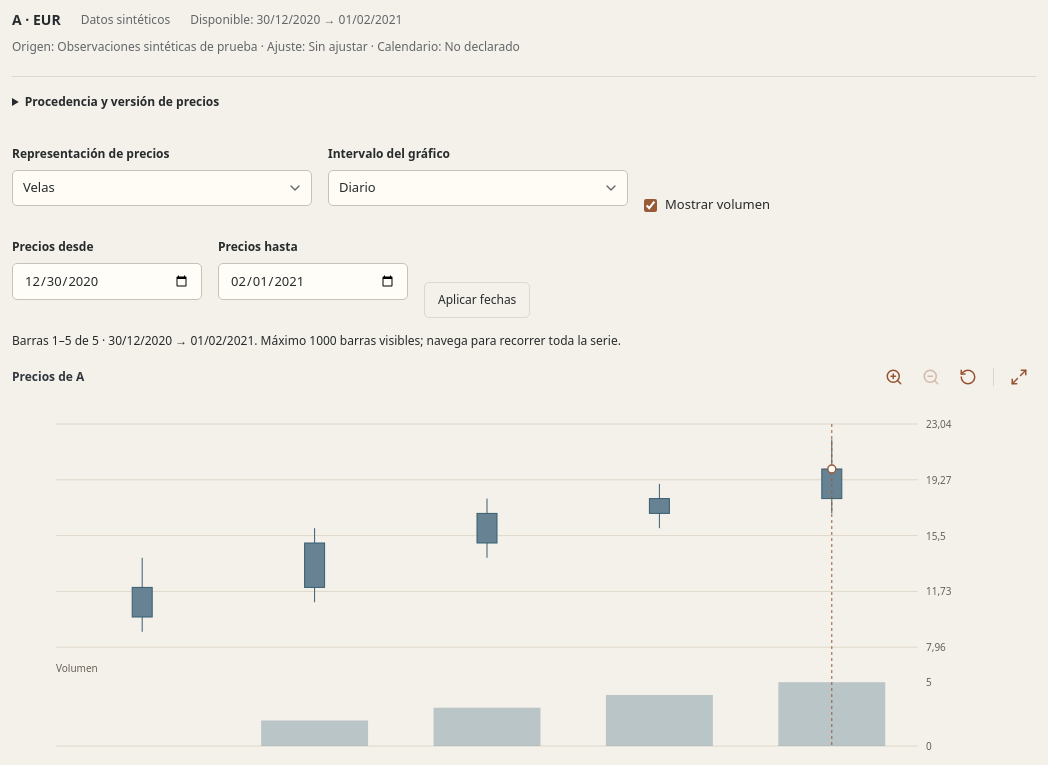
Scenario: Exploración fiel y accesible de OHLCV › filtra fechas sin rellenar huecos y usa el cierre previo al rango para el primer cambio
In the date field labelled "Precios desde": [107, 282] box 12,263 -> 202,300, type "2021-01-04"
In the date field labelled "Precios hasta": [313, 282] box 218,263 -> 408,300, type "2021-01-05"
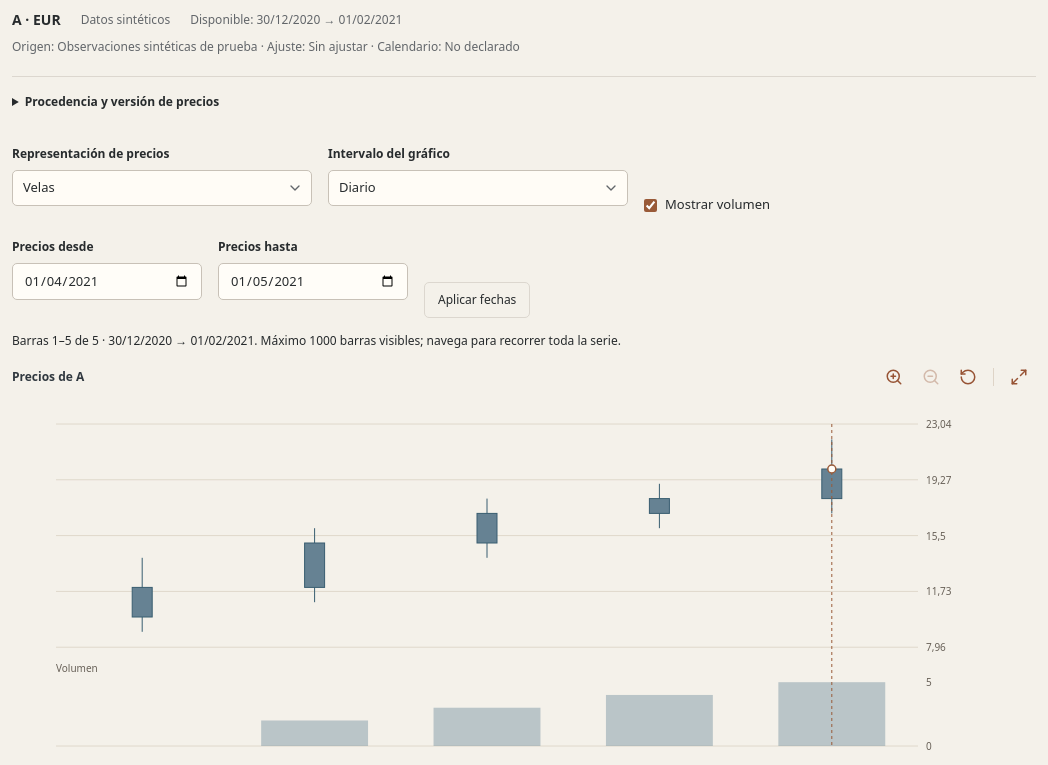
Click the button "Aplicar fechas": [477, 300] box 424,282 -> 530,318
(page scrolled)
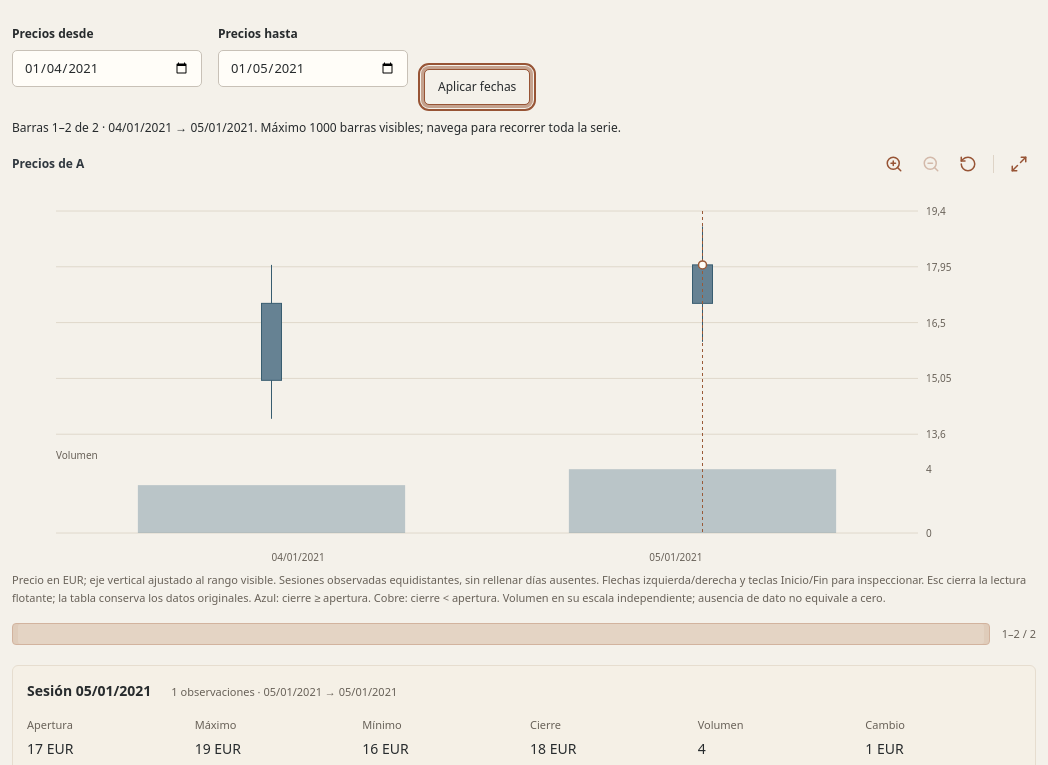
Press Home in the picture named "Gráfico de precios", box 12,191 -> 1036,571
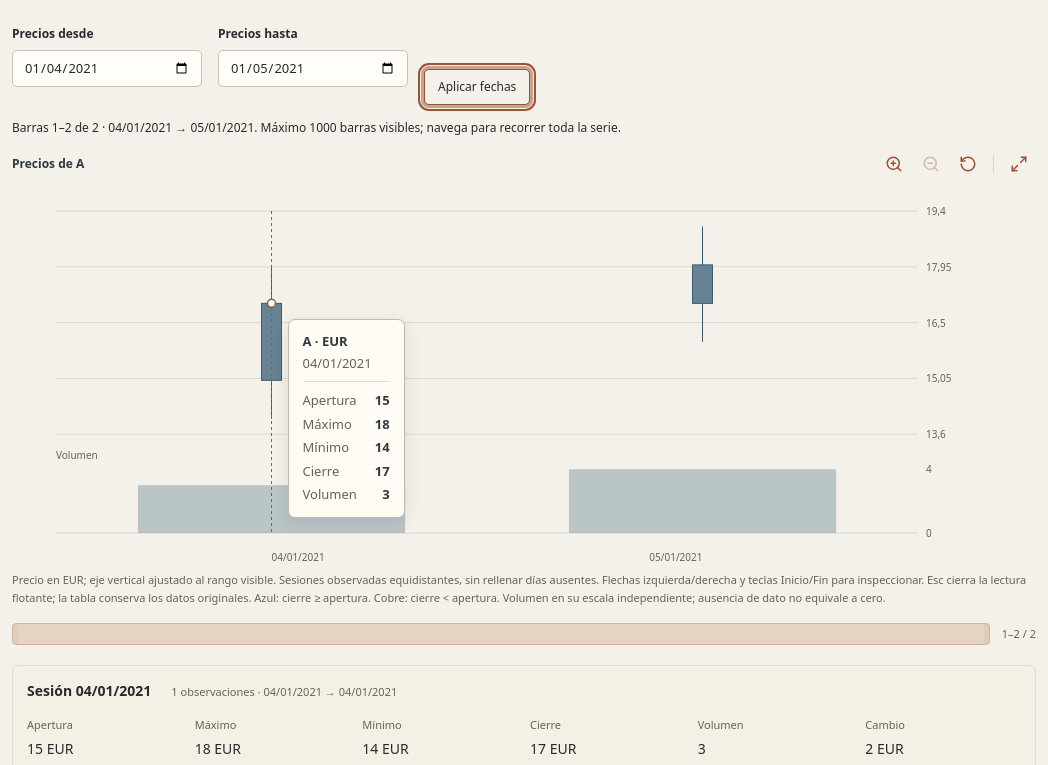
In the date field labelled "Precios desde": [107, 68] box 12,50 -> 202,87, type "2021-01-06"
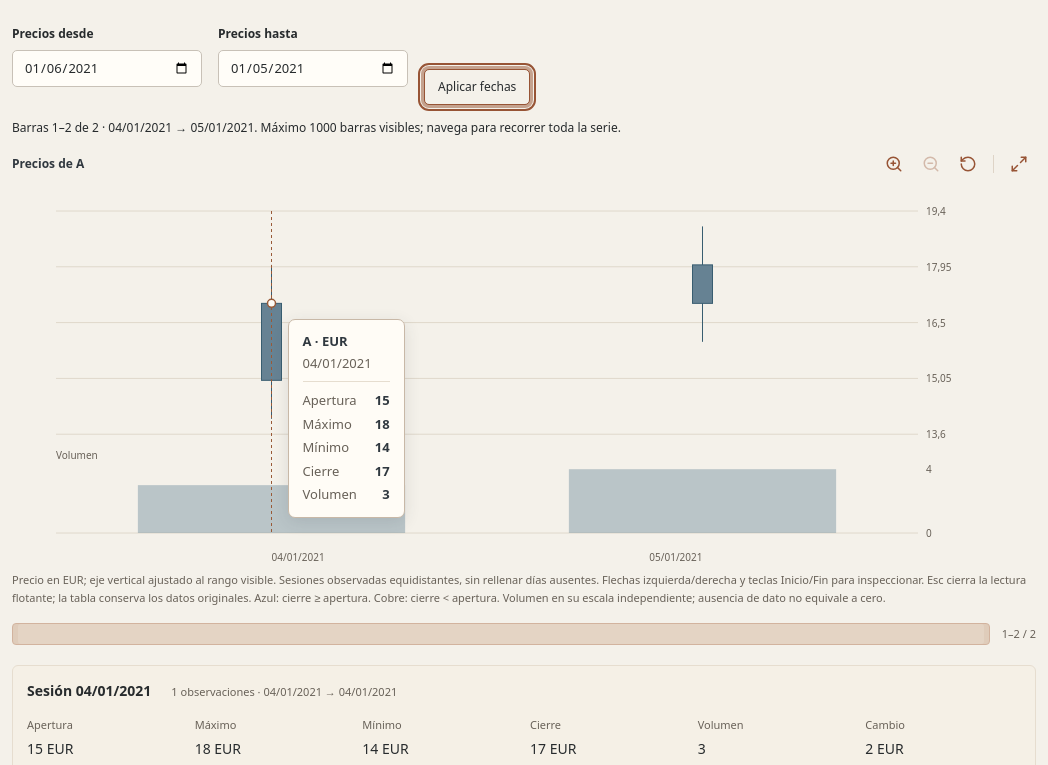
In the date field labelled "Precios hasta": [313, 68] box 218,50 -> 408,87, type "2021-01-10"
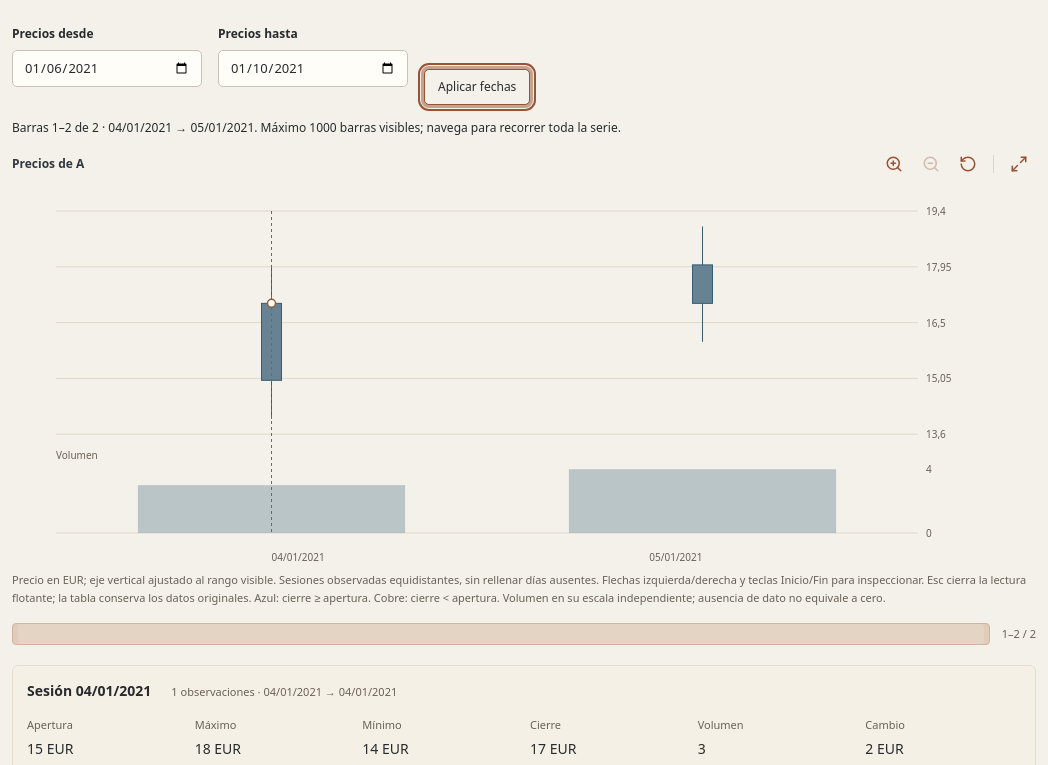
Click the button "Aplicar fechas": [477, 87] box 424,69 -> 530,105
(page scrolled)
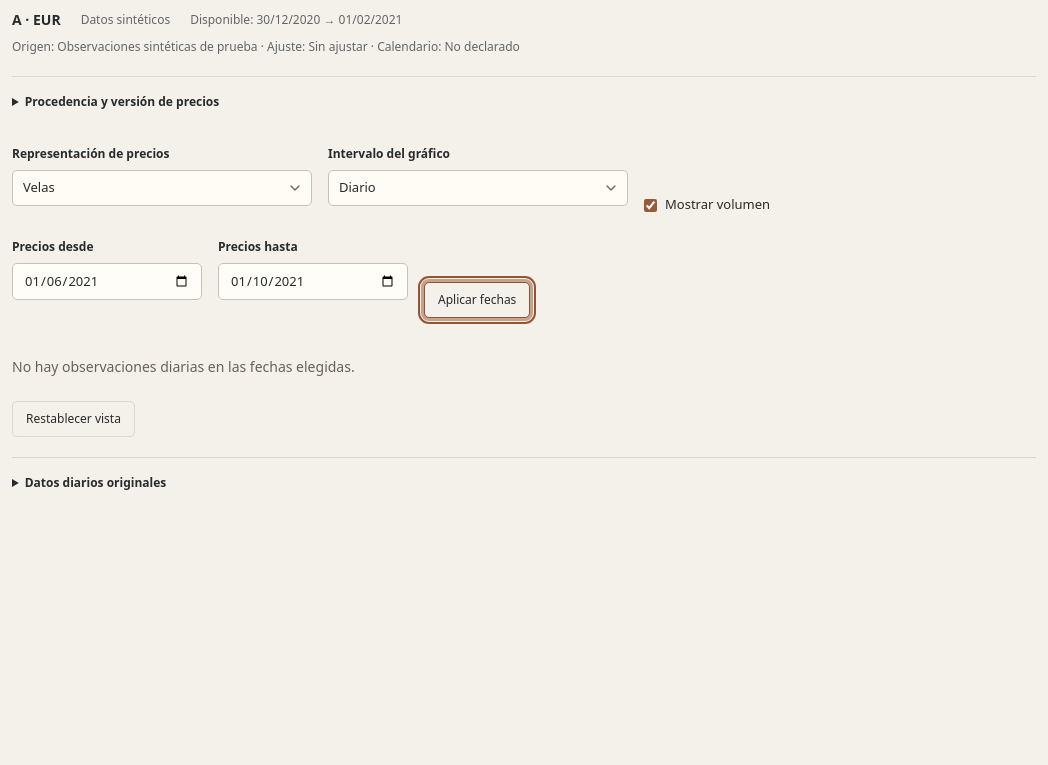
Expected: the text "No hay observaciones diarias en las fechas elegidas." is shown, 12,357 -> 355,376
